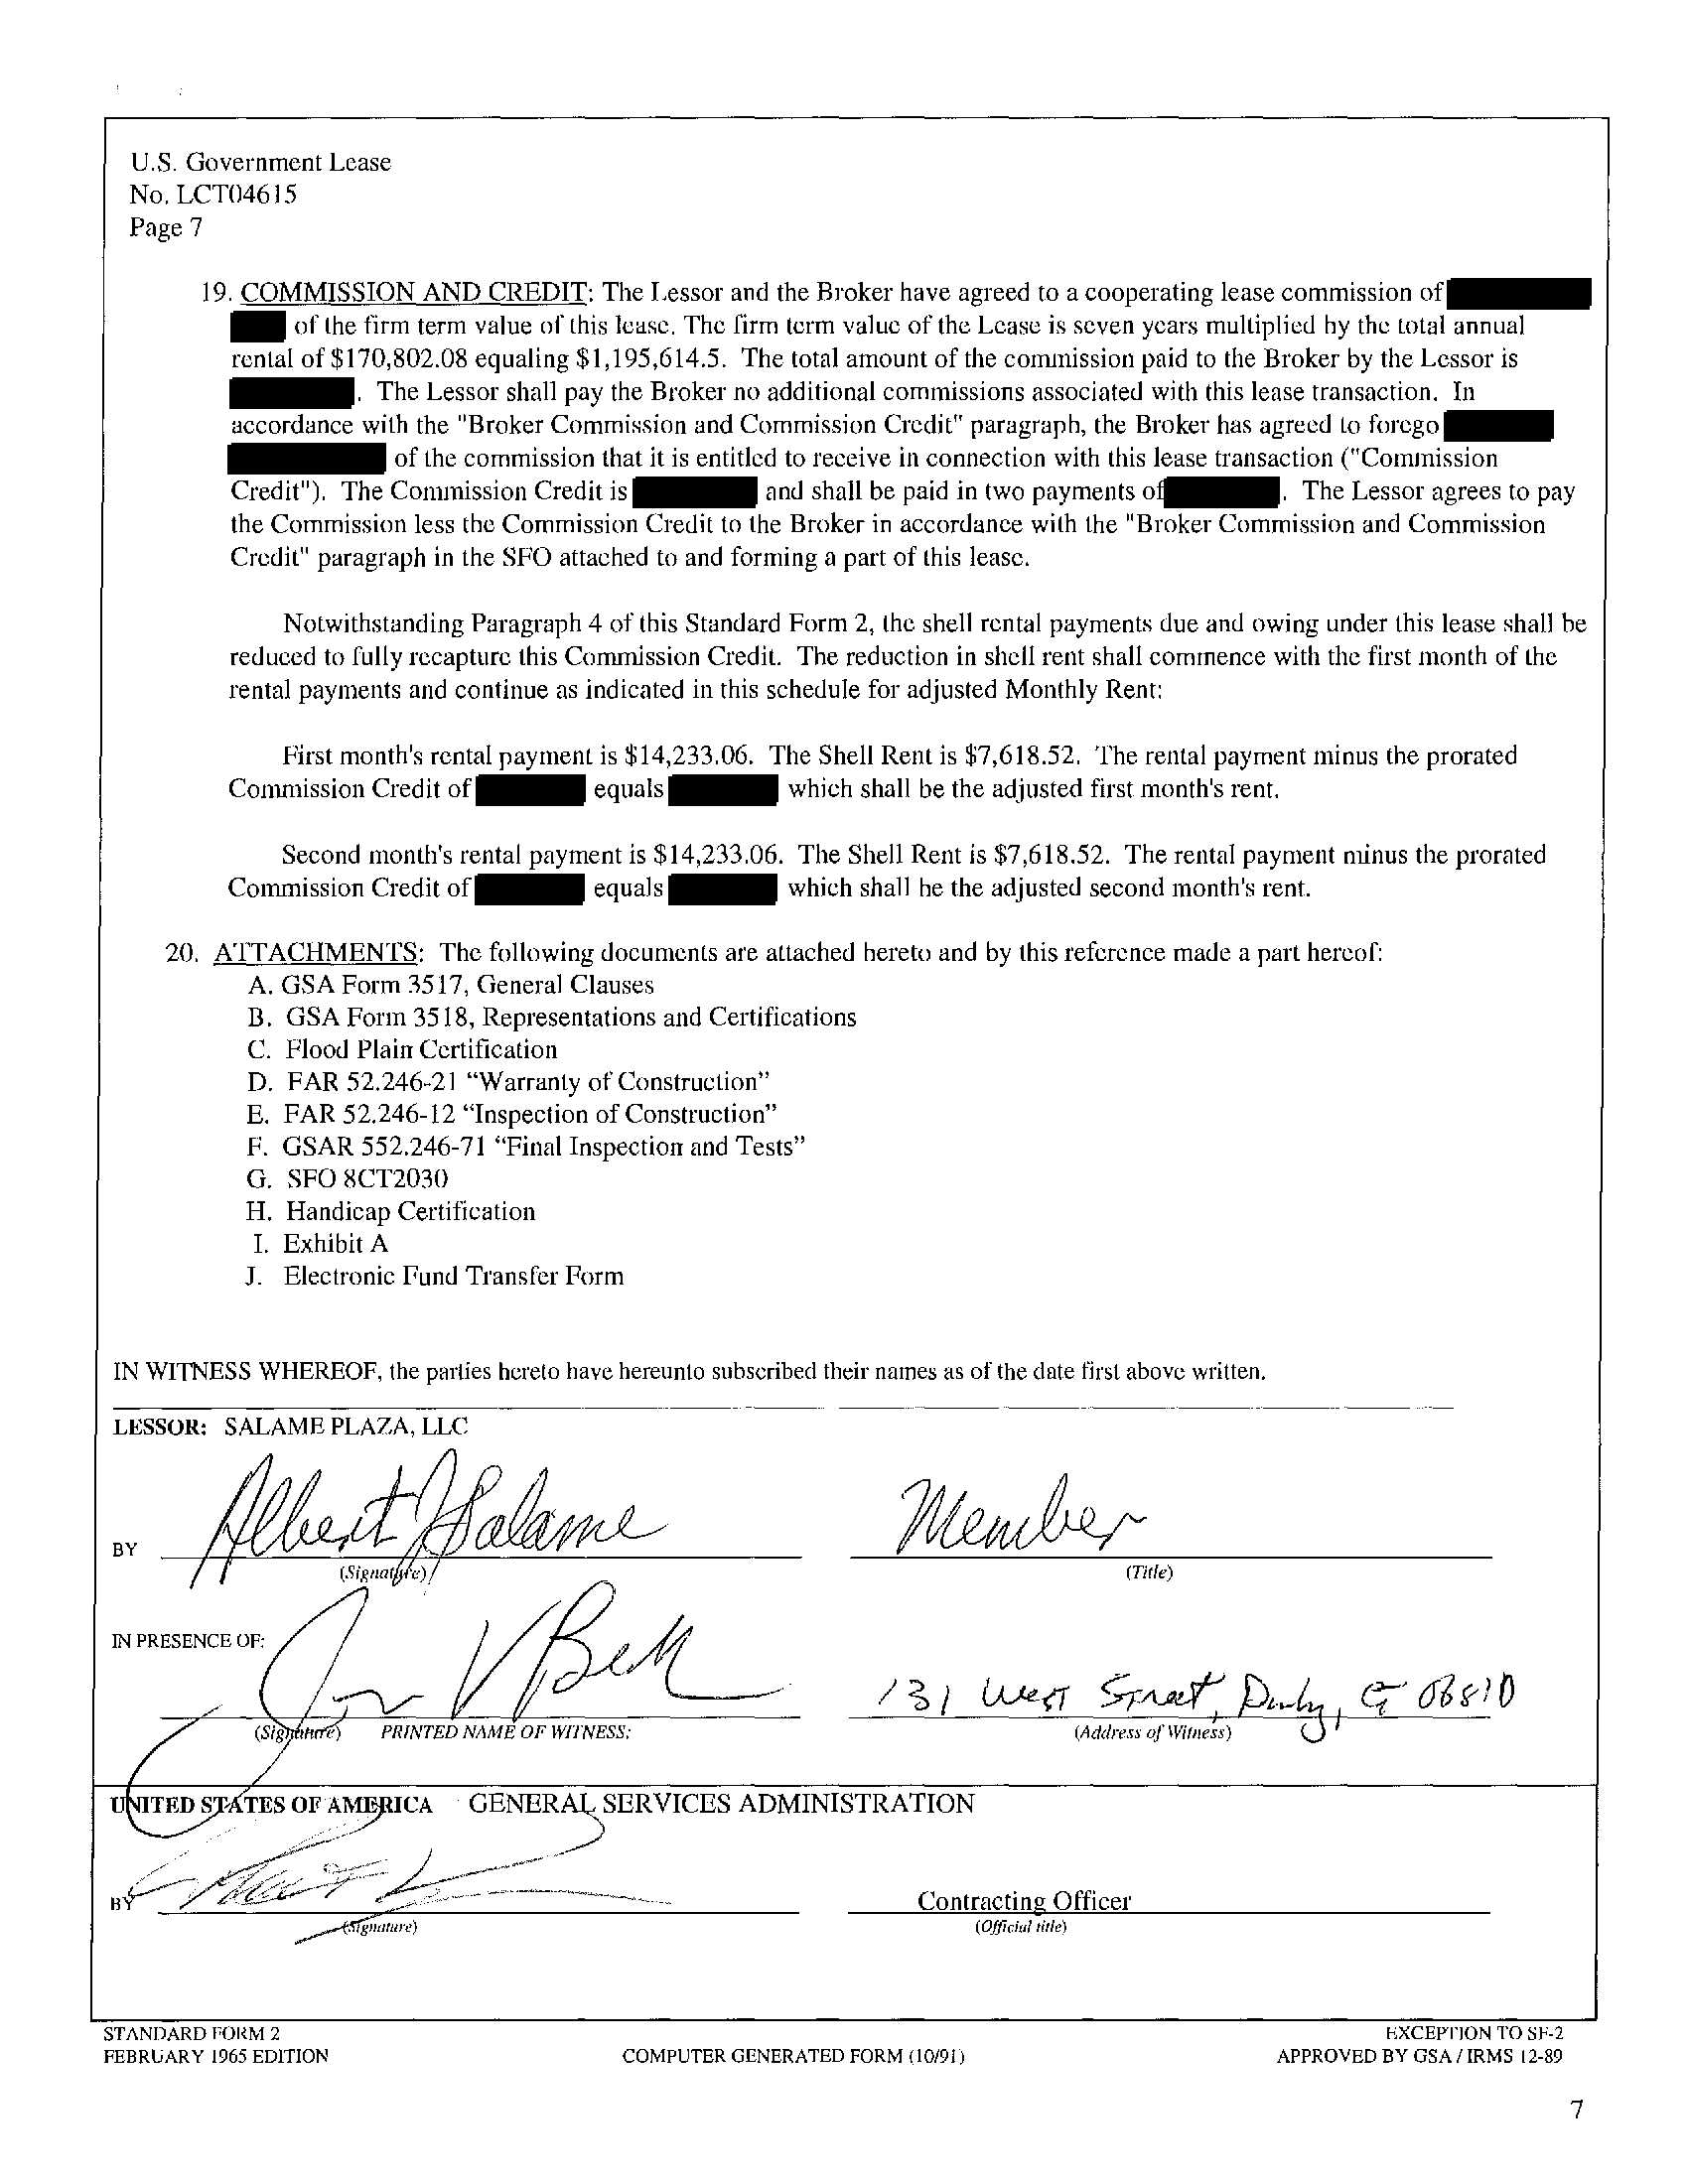handwritten: (186, 1459, 699, 1583), (284, 1590, 778, 1718), (135, 1805, 716, 1907), (174, 1447, 681, 1551), (858, 1643, 1541, 1716), (878, 1459, 1138, 1556)
